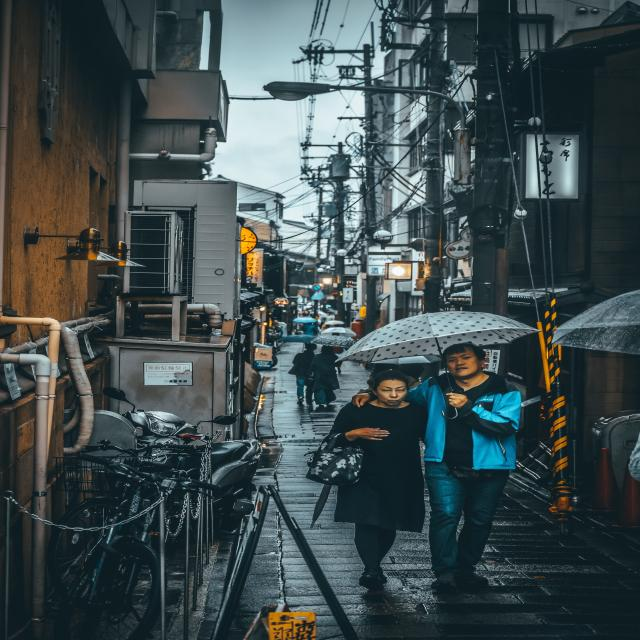Street Light: (263, 75, 477, 186)
